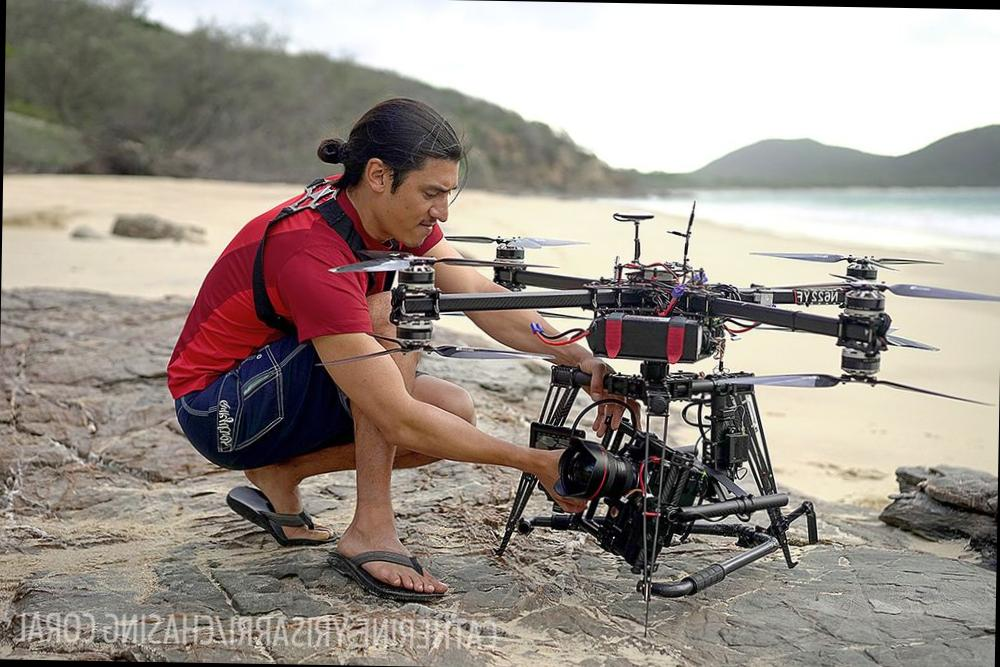drone: (302, 206, 986, 424)
